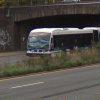Bus: (26, 24, 100, 70)
